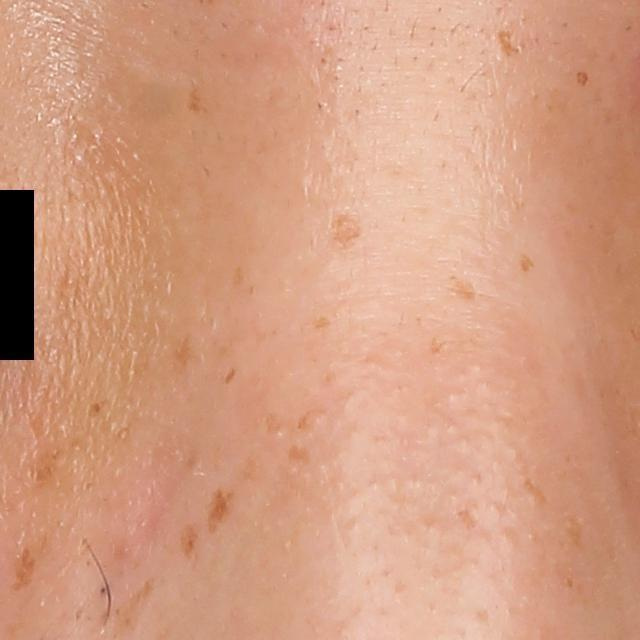atrophic_scar: (497, 30, 522, 57)
melasma: (30, 444, 72, 487), (554, 509, 589, 551), (518, 471, 557, 506), (181, 513, 205, 562), (8, 547, 36, 587), (292, 405, 332, 433), (328, 213, 359, 248), (209, 489, 231, 536), (172, 330, 198, 369), (284, 443, 316, 469), (180, 80, 202, 117), (262, 409, 286, 441), (450, 279, 479, 305), (83, 397, 113, 421), (457, 506, 479, 531), (228, 265, 246, 294), (313, 313, 335, 330), (224, 364, 238, 387)
